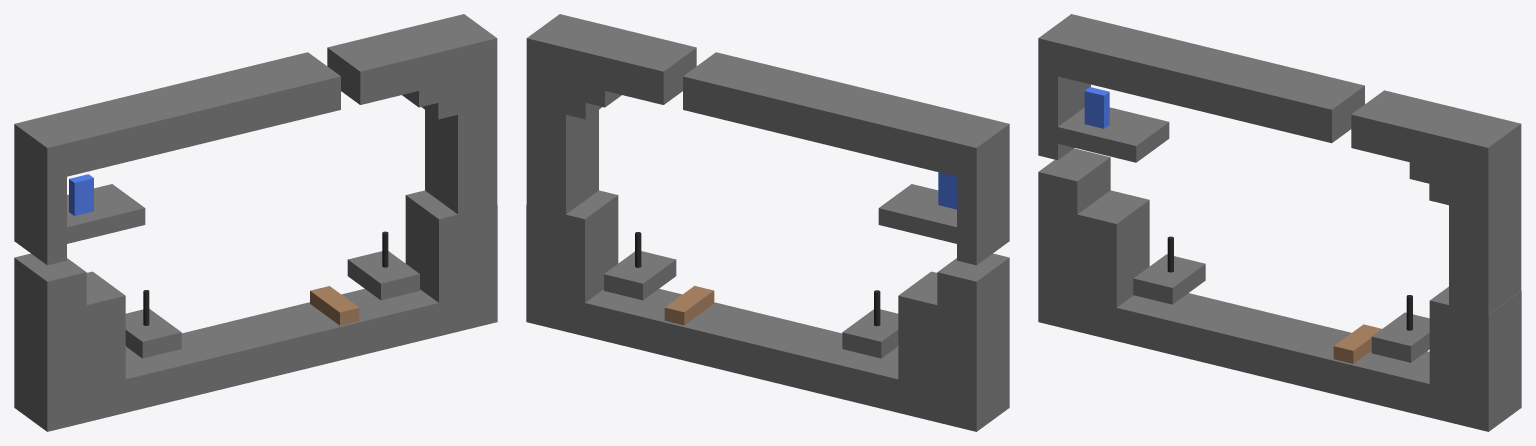
Rendered from First Room.fbx.
The picture shows the model from 3 angles, left to right: view 1: azimuth 30°, elevation 25°; view 2: azimuth 150°, elevation 25°; view 3: azimuth 330°, elevation 25°; orthographic projection.
Parts seen in each view (by area): view 1: Cube__11_, Cube__2_, Cube__4_, Cube__3_, Cube, Cube__7_, Cube__9_, Cube__5_, Cube__6_, _1_Block__2_, Cube__1_, _1_Block__3_ (+3 smaller); view 2: Cube__11_, Cube__2_, Cube__4_, Cube__3_, Cube, Cube__7_, Cube__9_, Cube__5_, Cube__6_, _1_Block__2_, Cube__1_, _1_Block__3_ (+3 smaller); view 3: Cube__11_, Cube__2_, Cube__3_, Cube__4_, Cube, Cube__7_, Cube__6_, Cube__9_, Cube__5_, _1_Block__3_, _1_Block__2_, Cube__1_ (+3 smaller).
Part boxes in pixels (x1,y1,x2,y2): Cube__11_: [33, 52, 340, 176]; Cube__2_: [125, 289, 438, 412]; Cube__4_: [14, 271, 125, 431]; Cube__3_: [425, 14, 497, 214]; Cube: [405, 190, 497, 336]; Cube__7_: [14, 119, 66, 265]; Cube__9_: [327, 33, 418, 104]; Cube__5_: [14, 253, 86, 314]; Cube__6_: [67, 184, 145, 243]; _1_Block__2_: [347, 251, 419, 300]; Cube__1_: [406, 23, 457, 119]; _1_Block__3_: [125, 309, 181, 358]; Cube__11_: [683, 52, 990, 176]; Cube__2_: [585, 289, 898, 412]; Cube__4_: [898, 271, 1009, 431]; Cube__3_: [526, 14, 598, 214]; Cube: [526, 190, 618, 336]; Cube__7_: [957, 119, 1009, 265]; Cube__9_: [605, 33, 696, 104]; Cube__5_: [937, 253, 1009, 314]; Cube__6_: [878, 184, 956, 243]; _1_Block__2_: [604, 251, 676, 300]; Cube__1_: [566, 23, 617, 119]; _1_Block__3_: [842, 309, 898, 358]; Cube__11_: [1057, 18, 1364, 143]; Cube__2_: [1116, 293, 1429, 417]; Cube__3_: [1449, 114, 1521, 314]; Cube__4_: [1038, 190, 1149, 340]; Cube: [1429, 286, 1521, 431]; Cube__7_: [1038, 14, 1090, 160]; Cube__6_: [1058, 107, 1169, 162]; Cube__9_: [1351, 90, 1442, 161]; Cube__5_: [1038, 148, 1110, 214]; _1_Block__3_: [1133, 254, 1205, 304]; _1_Block__2_: [1371, 312, 1429, 362]; Cube__1_: [1429, 109, 1481, 205].
Size of the model in its own units: 16854 by 10156 by 2146.
